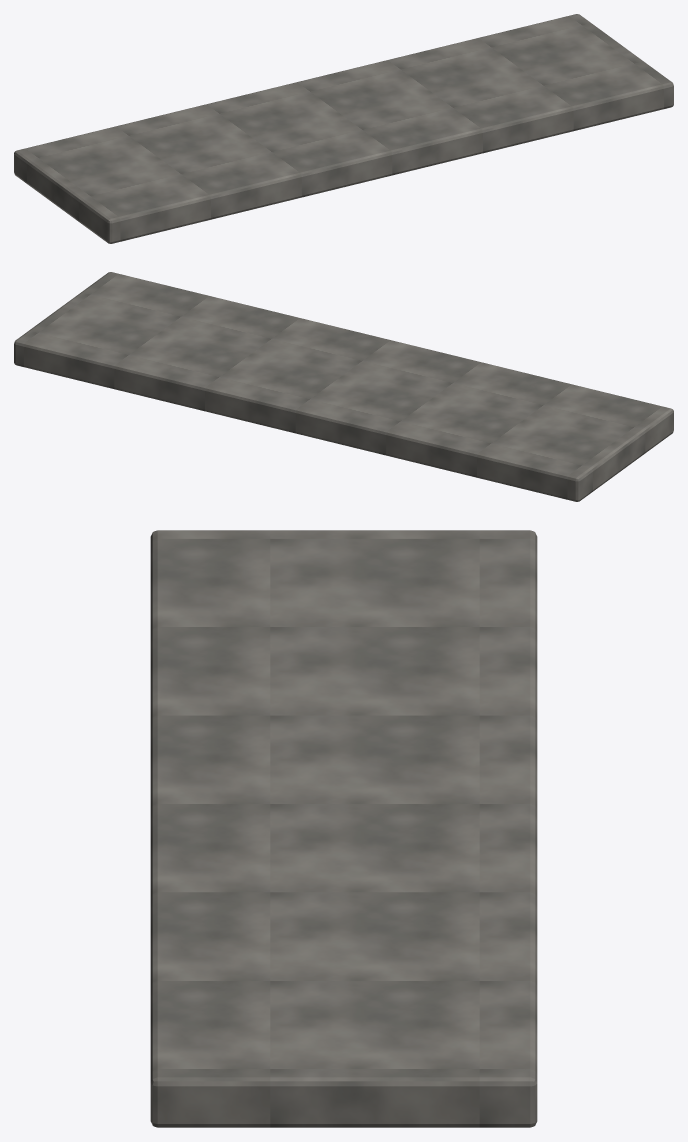
File: Street_BlockL4_Coping.obj
3 views of the same model, one above another, from view 1: azimuth 30°, elevation 25°; view 2: azimuth 150°, elevation 25°; view 3: azimuth 270°, elevation 25° (orthographic). The views are drawn at different scales.
Size of the model in its own units: 2.84 by 0.12 by 0.84.
1 material, 1 textured.
